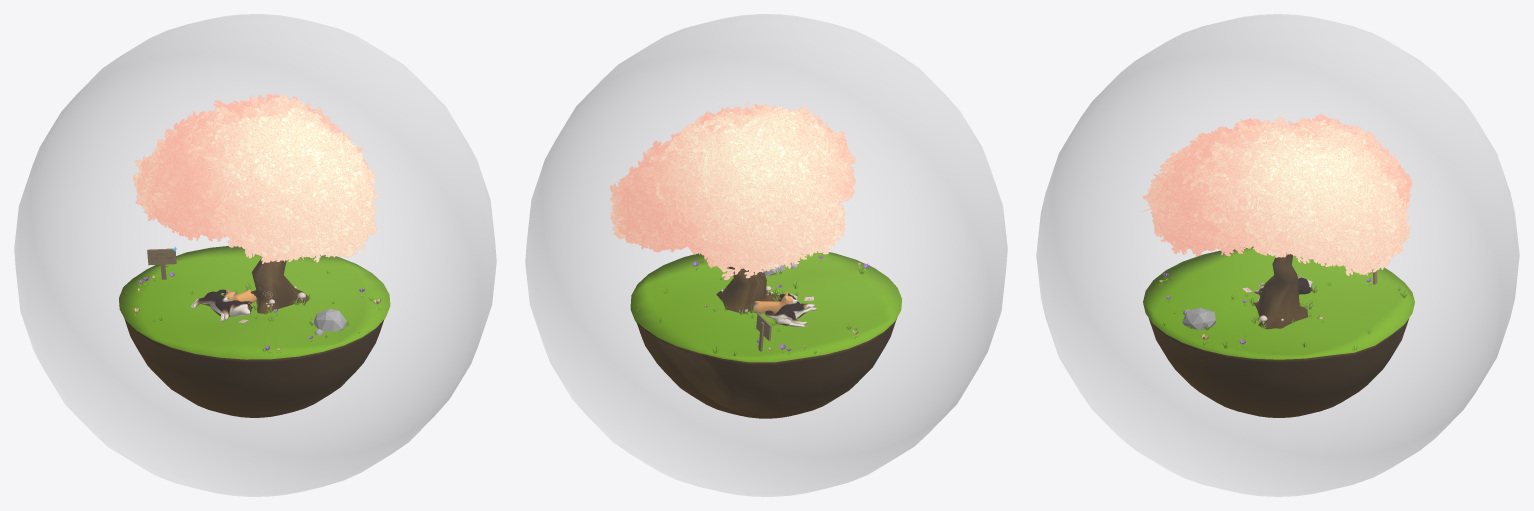
File: tree.6.gltf
The picture shows the model from 3 angles, left to right: view 1: azimuth 30°, elevation 25°; view 2: azimuth 150°, elevation 25°; view 3: azimuth 270°, elevation 25°; orthographic projection.
Parts seen in each view (by area): view 1: orb, base, Plane.0, tree-bark, shibe, Rock; view 2: orb, Plane.0, base, tree-bark, shibe; view 3: orb, Plane.0, base, tree-bark, Rock.
Boxes of the visible parts, bbox=[...] form: orb: bbox=[14, 14, 496, 496]; base: bbox=[119, 246, 390, 417]; Plane.0: bbox=[133, 94, 379, 263]; tree-bark: bbox=[251, 257, 308, 313]; shibe: bbox=[191, 289, 252, 321]; Rock: bbox=[314, 309, 346, 331]; orb: bbox=[525, 14, 1007, 496]; Plane.0: bbox=[610, 102, 855, 279]; base: bbox=[630, 251, 901, 418]; tree-bark: bbox=[716, 266, 781, 313]; shibe: bbox=[765, 293, 816, 327]; orb: bbox=[1036, 14, 1519, 496]; Plane.0: bbox=[1141, 114, 1412, 275]; base: bbox=[1143, 246, 1414, 417]; tree-bark: bbox=[1253, 253, 1308, 329]; Rock: bbox=[1182, 307, 1215, 330].
Size of the model in its own units: 22.69 by 22.69 by 22.69.
18 materials, 6 textured.
